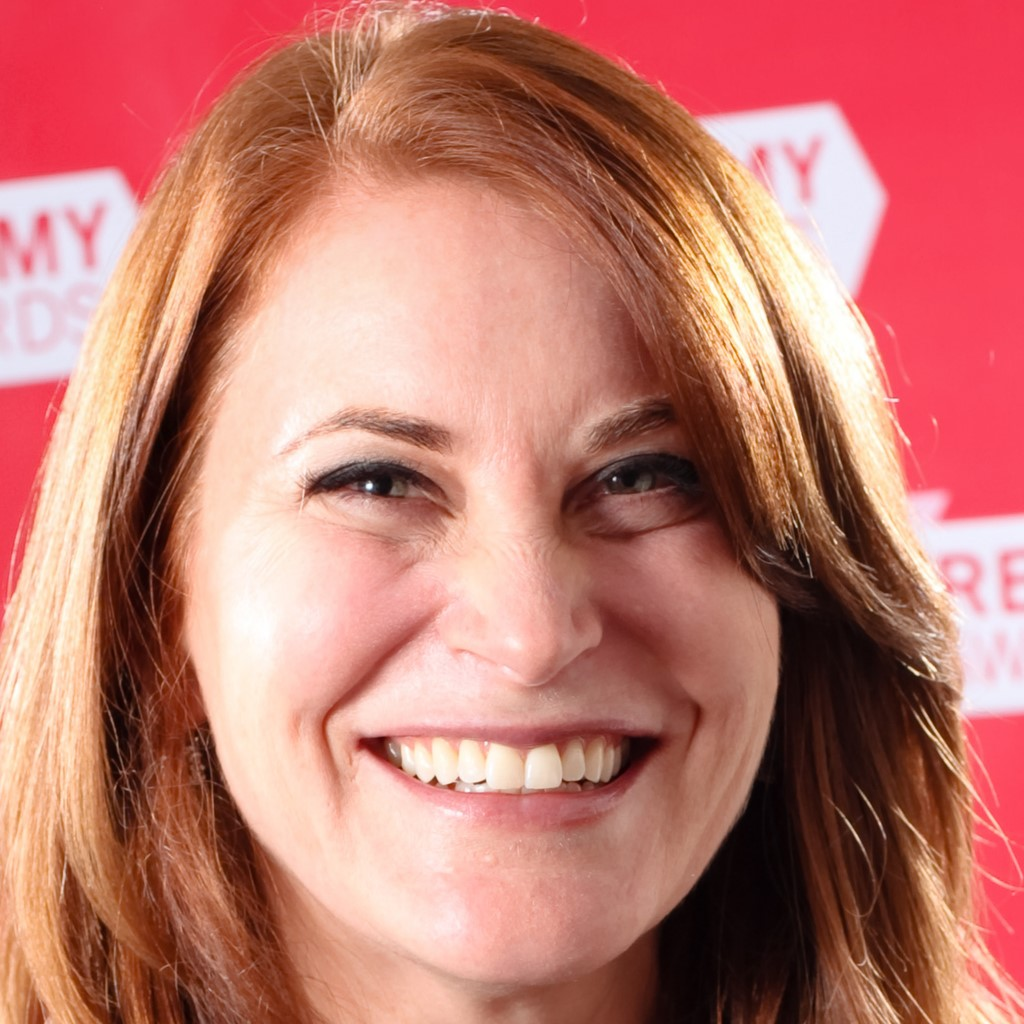sin_mascara: (170, 123, 780, 970)
